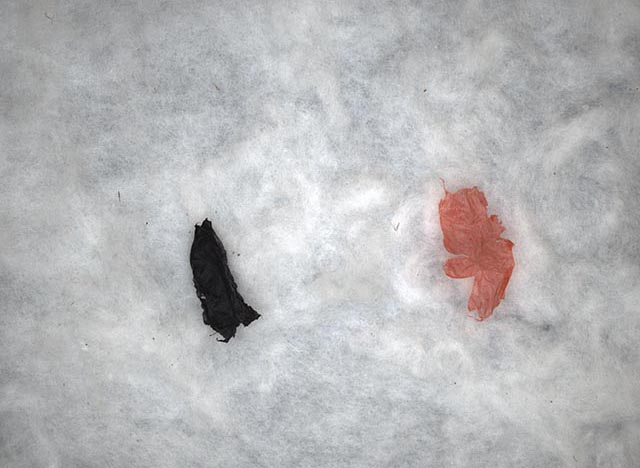plastic film: (438, 179, 515, 319), (189, 217, 262, 342)
